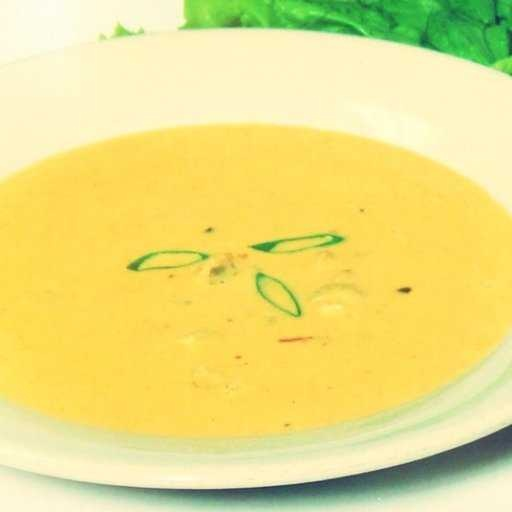soup: (8, 78, 490, 460)
